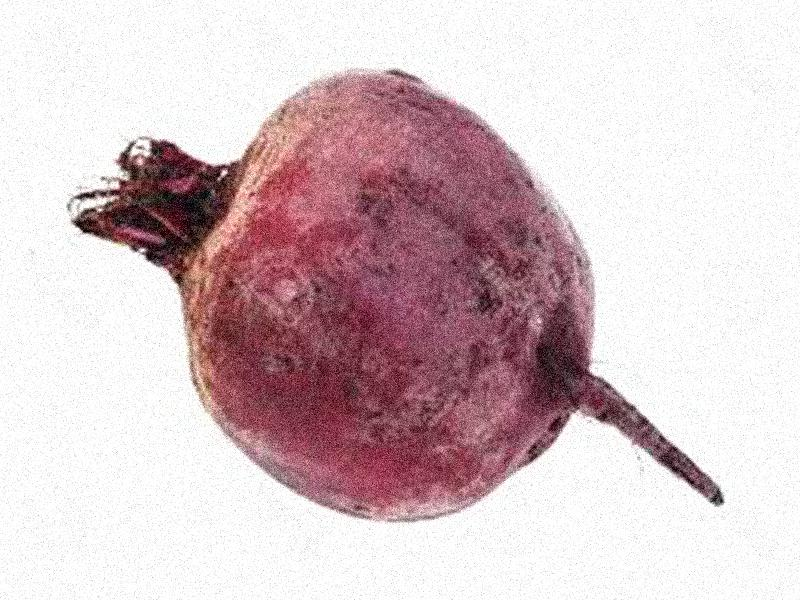Beet: (73, 75, 716, 519)
